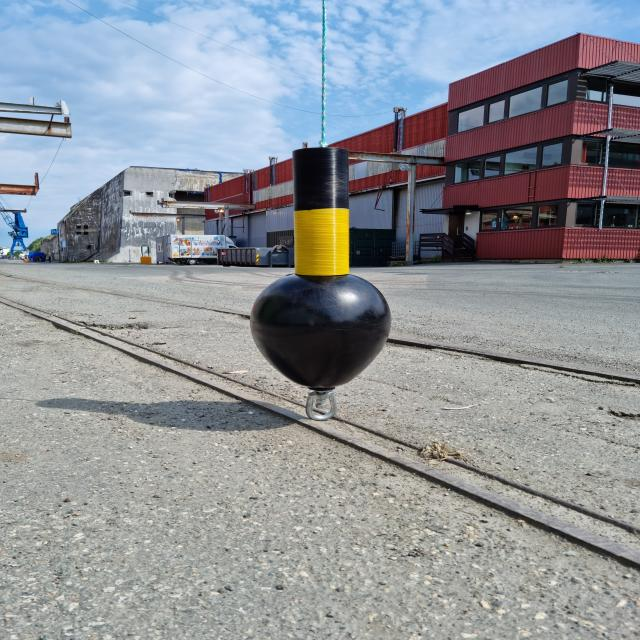east: (250, 147, 393, 390)
